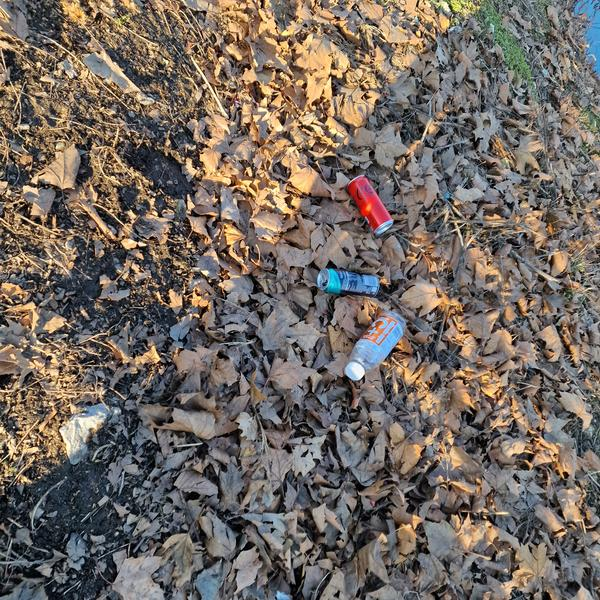can: (343, 172, 396, 238), (316, 267, 381, 301)
plastic_bottle: (336, 303, 412, 388)
